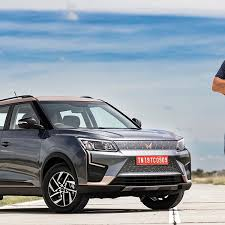XUV 400: (1, 93, 193, 212)
